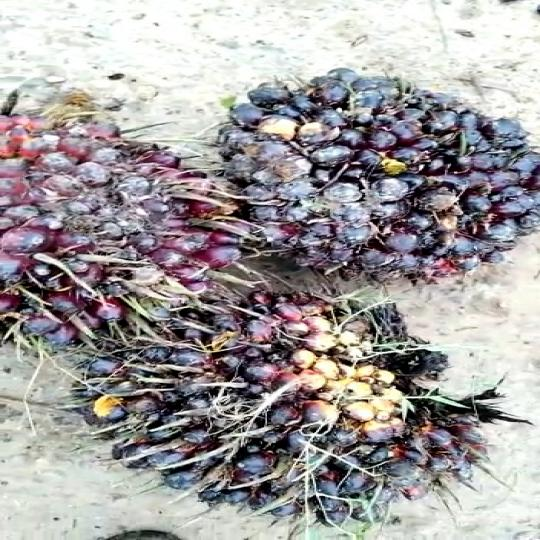kurang masak: (88, 281, 485, 540), (209, 59, 540, 287), (0, 73, 230, 366)
